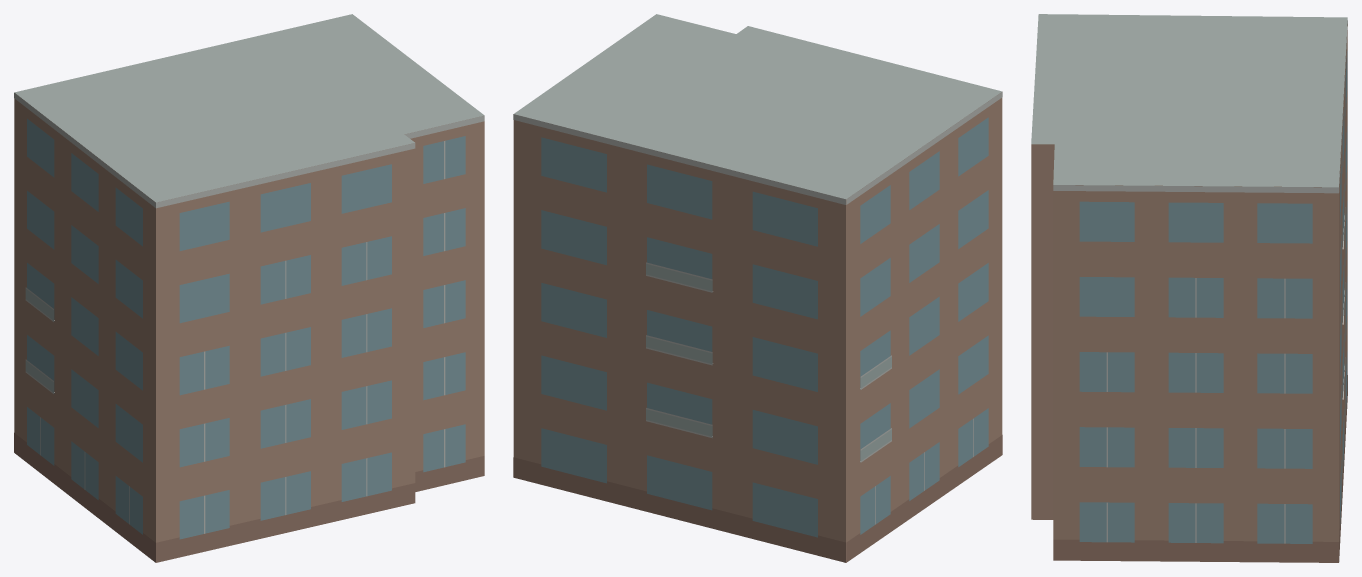
The model's file is survey-upis-32520968.glb.
3 renders of one model, left to right at view 1: azimuth 30°, elevation 25°; view 2: azimuth 150°, elevation 25°; view 3: azimuth 270°, elevation 25°, orthographic. The views are drawn at different scales.
Visible parts, largest first — view 1: survey-upis-32520968.tmp; view 2: survey-upis-32520968.tmp; view 3: survey-upis-32520968.tmp.
Part boxes in pixels (x1,y1,x2,y2): survey-upis-32520968.tmp: (14,14,484,562); survey-upis-32520968.tmp: (513,14,1002,562); survey-upis-32520968.tmp: (1031,14,1347,562).
Bounding box in the file's own units: 15.1 × 15.25 × 11.66.
